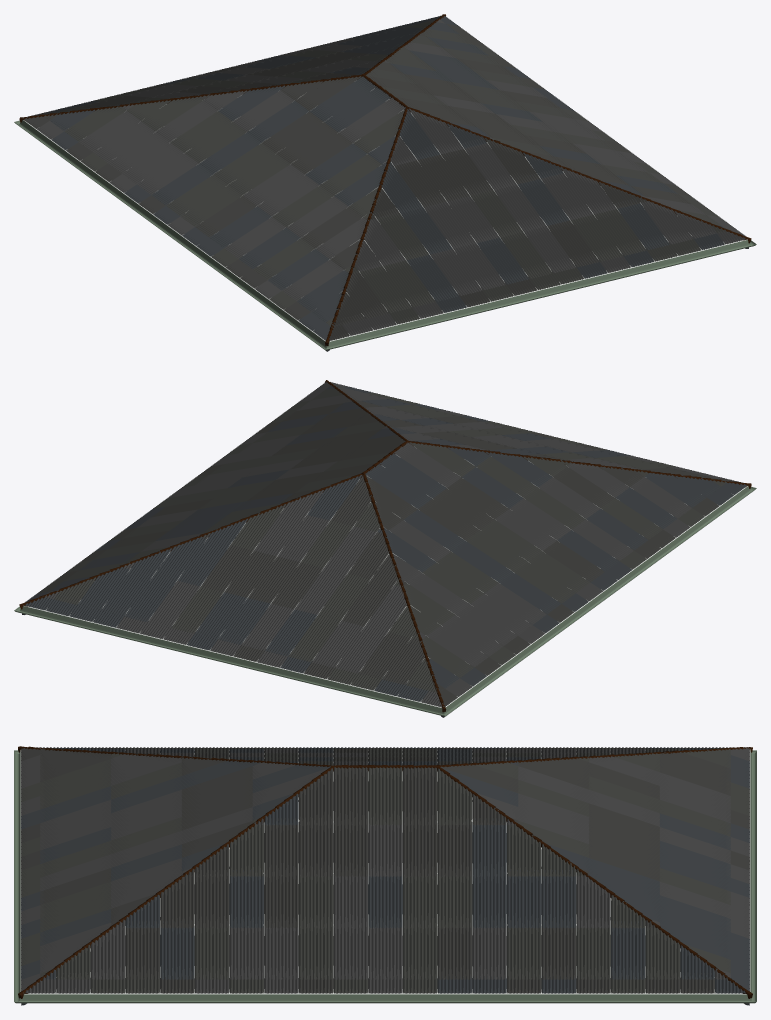
Rendered from roof.glb.
The picture shows the model from 3 angles, top to bottom: view 1: azimuth 30°, elevation 25°; view 2: azimuth 150°, elevation 25°; view 3: azimuth 270°, elevation 25°; orthographic projection. The views are drawn at different scales.
Parts seen in each view (by area): view 1: Atap_Roof_eaves_0; view 2: Atap_Roof_eaves_0; view 3: Atap_Roof_eaves_0.
Part boxes in pixels (x1,y1,x2,y2): Atap_Roof_eaves_0: (14,14,756,351); Atap_Roof_eaves_0: (14,380,756,717); Atap_Roof_eaves_0: (14,746,756,1005).
Bounding box in the file's own units: 18.38 × 4.01 × 22.95.
1 material, 1 textured.
